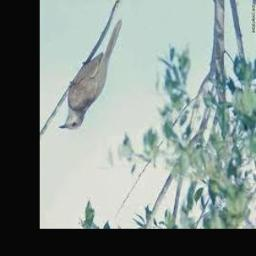Cuckoo: (58, 19, 122, 130)
